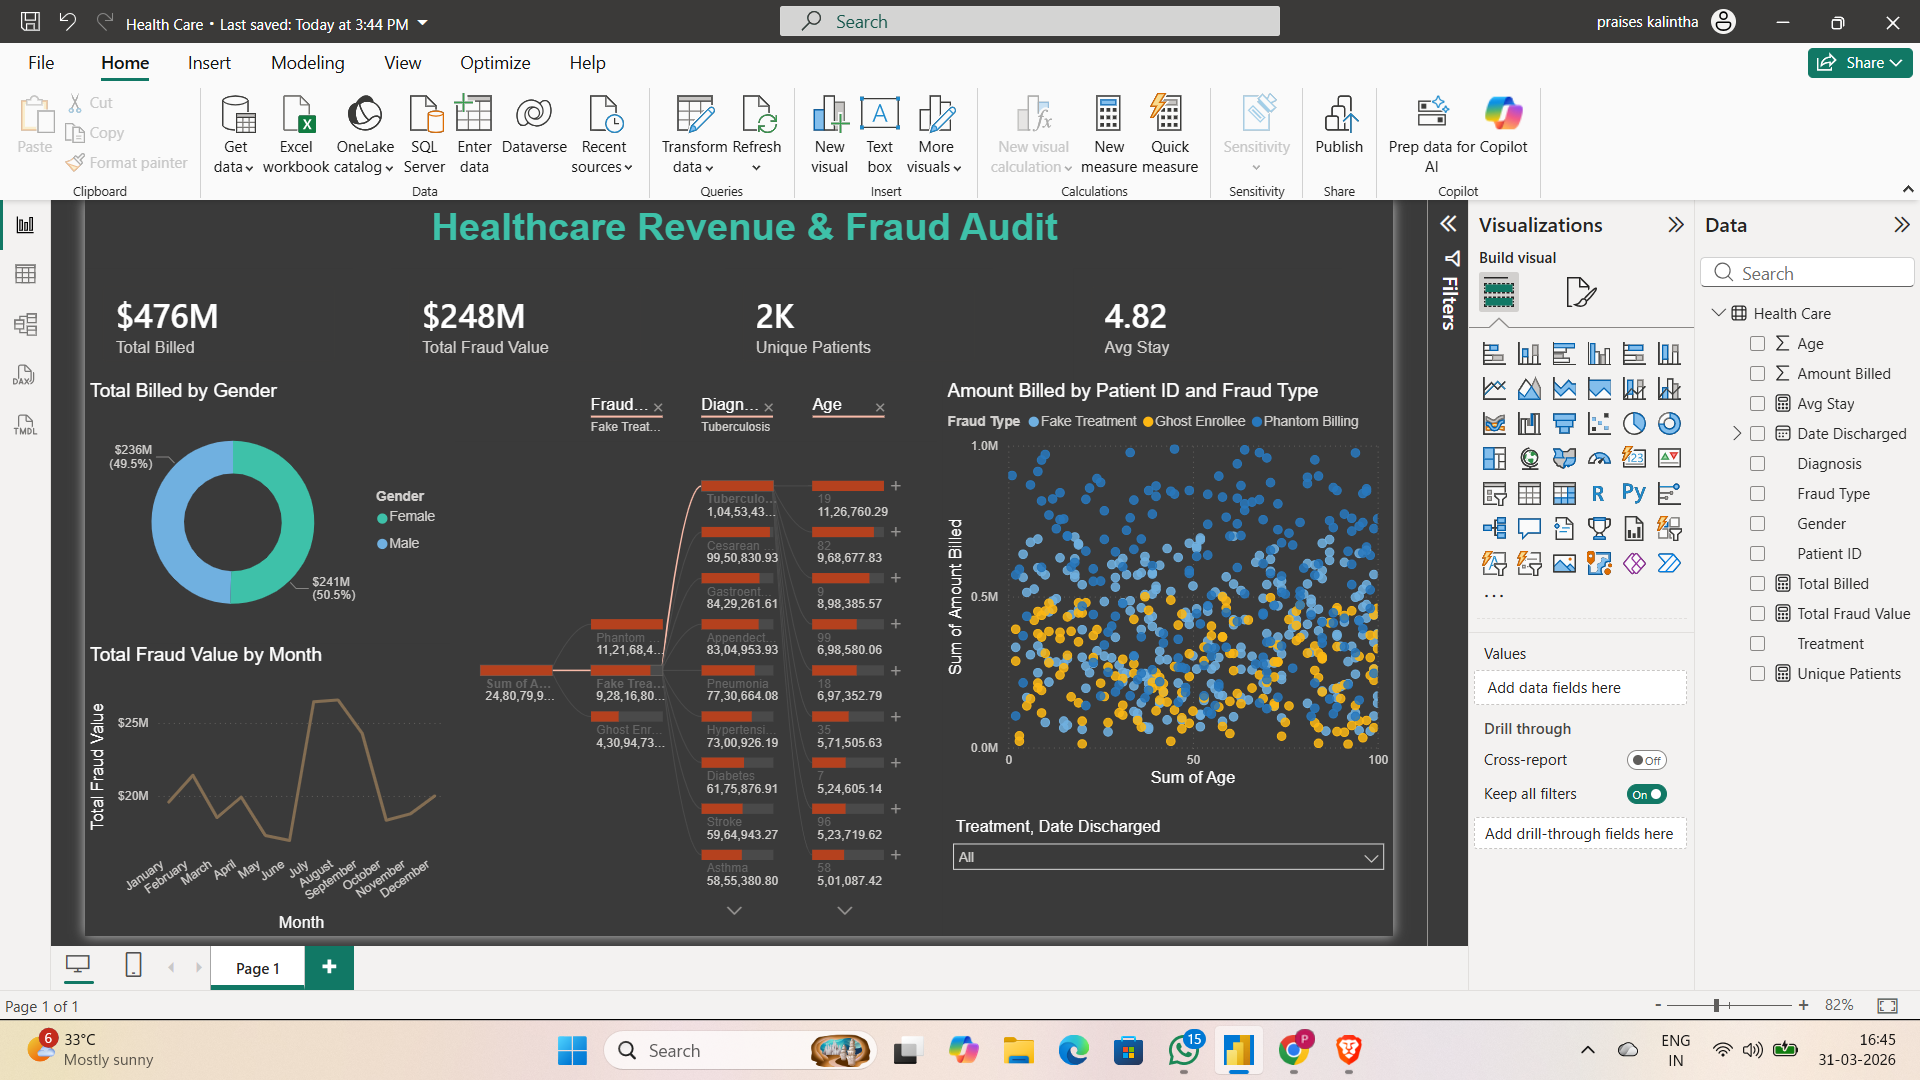

The dashboard page shown, as its layout file describes it:
{"tool":"powerbi","page":{"name":"Page 1","canvas":[1280,720],"ordinal":0},"visuals":[{"type":"textbox","box":[9.6,0,1270.7,76.8],"z":0},{"type":"cardVisual","fields":{"Data":["Health Care.Total Billed"]},"box":[0,67.6,261.8,108.6],"z":1000},{"type":"cardVisual","fields":{"Data":["Health Care.Total Fraud Value"]},"box":[299.1,67.2,262.1,108.4],"z":2000},{"type":"cardVisual","fields":{"Data":["Health Care.Unique Patients"]},"box":[625.7,67.2,262.1,108.4],"z":3000},{"type":"cardVisual","fields":{"Data":["Health Care.Avg Stay (Days)"]},"box":[967.4,67.2,262.1,108.4],"z":4000},{"type":"donutChart","fields":{"Category":["Health Care.Gender"],"Y":["Health Care.Total Billed"]},"box":[0,175.6,356.8,258],"z":5000},{"type":"lineChart","fields":{"Category":["Health Care.Date Discharged.Variation.Date Hierarchy.Month"],"Y":["Health Care.Total Fraud Value"]},"box":[0,433.6,356.8,286.8],"z":6000},{"type":"scatterChart","title":"Amount Billed by Patient ID and Fraud Type","fields":{"X":["Sum(Health Care.Age)"],"Series":["Health Care.Fraud Type"],"Y":["Sum(Health Care.Amount Billed)"],"Category":["Health Care.Patient ID"]},"box":[838.4,175.6,441.9,402.1],"z":8000},{"type":"slicer","fields":{"Values":["Health Care.Treatment","Health Care.Date Discharged"]},"box":[838.4,599.7,441.9,120.8],"z":9000},{"type":"decompositionTreeVisual","fields":{"ExplainBy":["Health Care.Fraud Type","Health Care.Diagnosis","Health Care.Age","Health Care.Gender"],"Analyze":["Sum(Health Care.Amount Billed)"]},"box":[356.8,175.6,481.6,544.8],"z":9001}]}

Visuals, with their boxes on the page's 1280x720 design canvas (x1, y1, x2, y2). These are canvas units, not pixel positions in the 1920x1080 screenshot, which may show the page scaled, cropped or inside an application window:
textbox: <bbox>10, 0, 1280, 77</bbox>
cardVisual - Health Care.Total Billed: <bbox>0, 68, 262, 176</bbox>
cardVisual - Health Care.Total Fraud Value: <bbox>299, 67, 561, 176</bbox>
cardVisual - Health Care.Unique Patients: <bbox>626, 67, 888, 176</bbox>
cardVisual - Health Care.Avg Stay (Days): <bbox>967, 67, 1230, 176</bbox>
donutChart - Health Care.Gender x Health Care.Total Billed: <bbox>0, 176, 357, 434</bbox>
lineChart - Health Care.Date Discharged.Variation.Date Hierarchy.Month x Health Care.Total Fraud Value: <bbox>0, 434, 357, 720</bbox>
"Amount Billed by Patient ID and Fraud Type" scatterChart: <bbox>838, 176, 1280, 578</bbox>
slicer - Health Care.Treatment x Health Care.Date Discharged: <bbox>838, 600, 1280, 720</bbox>
decompositionTreeVisual - Health Care.Fraud Type x Health Care.Diagnosis: <bbox>357, 176, 838, 720</bbox>
